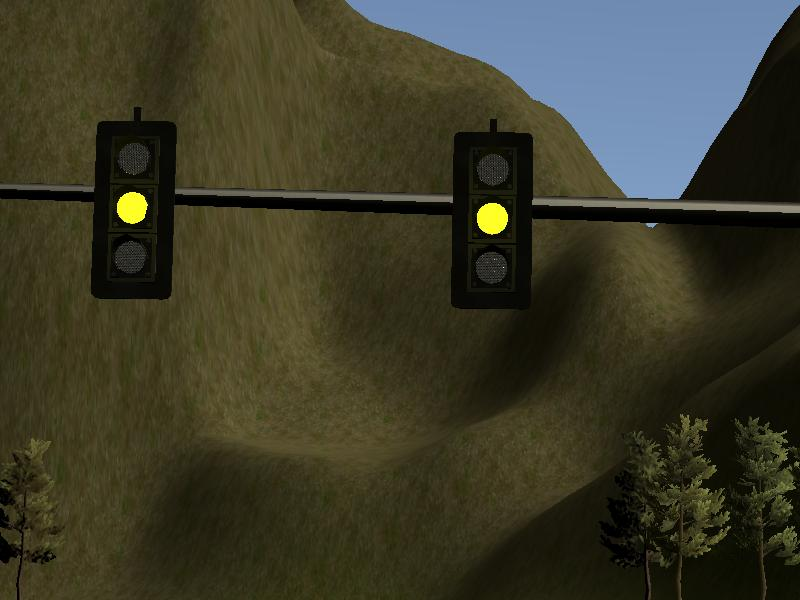yellow: (92, 121, 172, 298), (453, 129, 533, 306)
